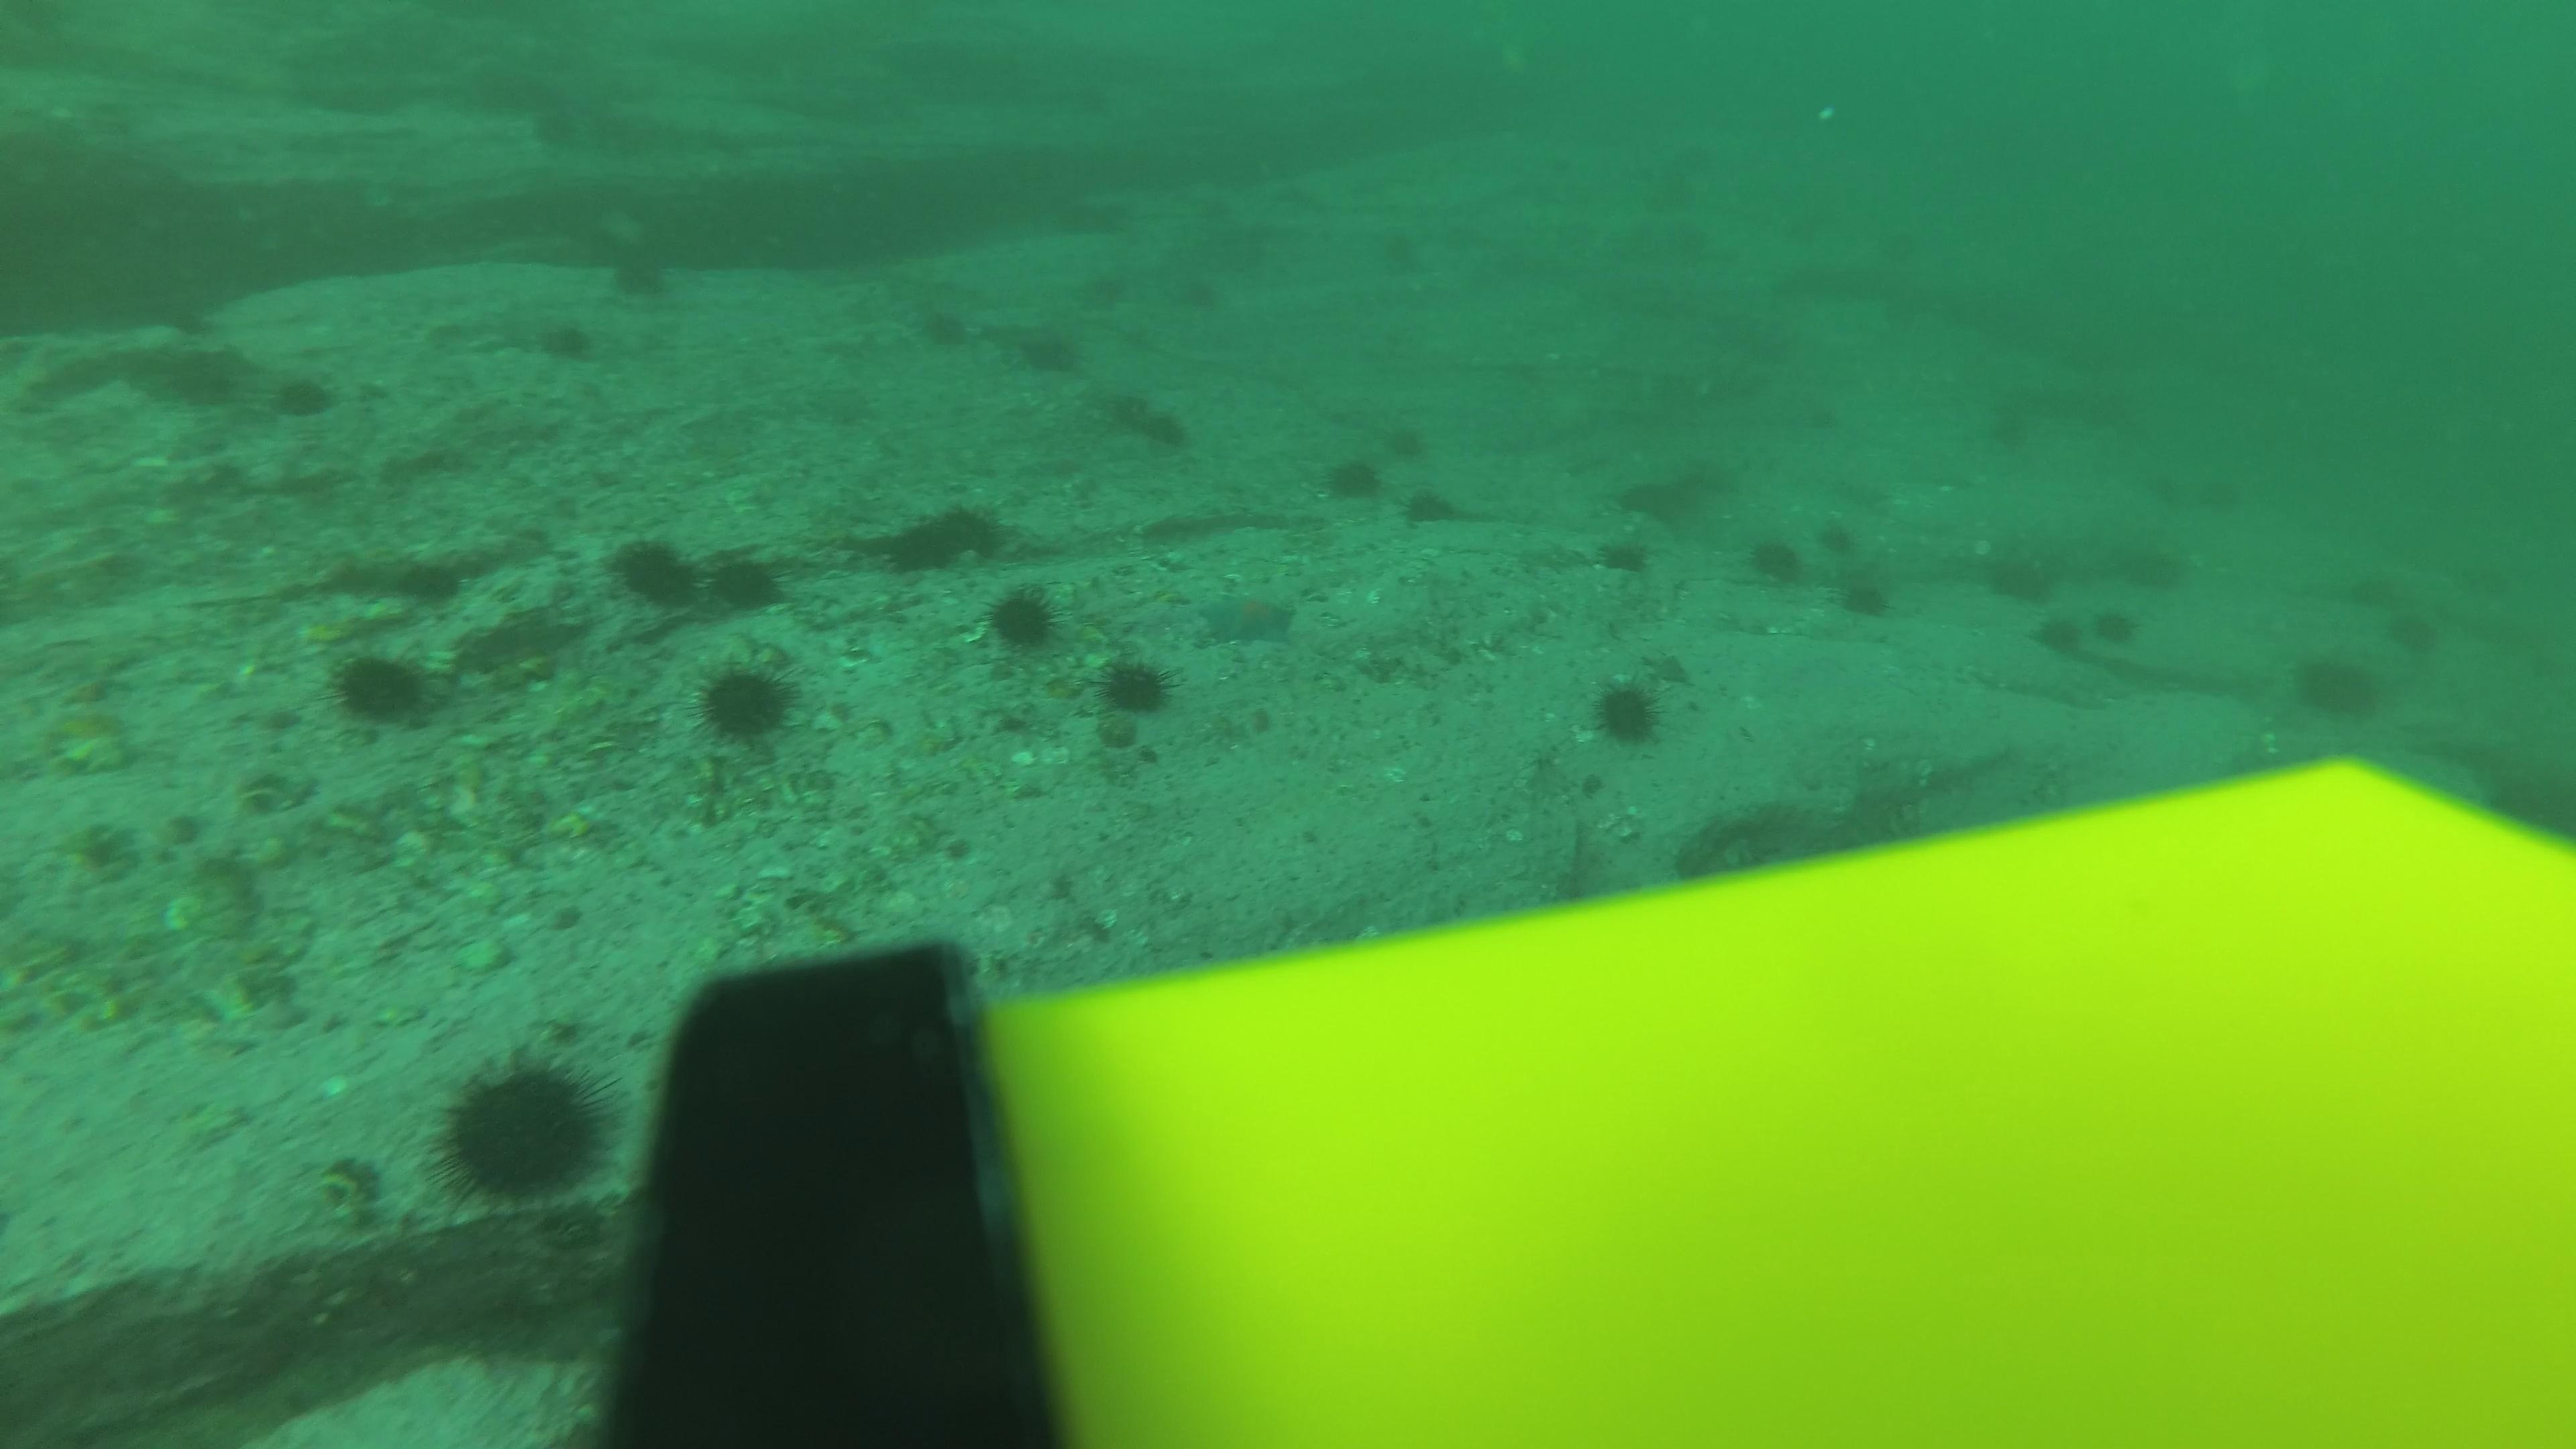echinus: (432, 1046, 614, 1207), (320, 639, 448, 736), (688, 653, 805, 750), (2288, 644, 2387, 725), (692, 541, 791, 623), (1088, 649, 1180, 736), (975, 579, 1069, 660), (1583, 671, 1672, 752), (157, 336, 251, 412), (1978, 533, 2061, 609), (598, 235, 681, 306), (1005, 318, 1086, 380), (619, 552, 699, 610), (602, 527, 683, 584), (267, 366, 341, 425), (934, 501, 1010, 557), (1741, 527, 1808, 591), (1829, 563, 1898, 625), (885, 520, 961, 575), (1318, 448, 1387, 508), (534, 311, 602, 368), (2029, 605, 2093, 662), (1378, 418, 1435, 479), (2084, 600, 2144, 656), (1394, 479, 1460, 531), (2199, 472, 2266, 522), (1812, 511, 1879, 561), (1796, 398, 1863, 448), (2128, 547, 2194, 596), (2378, 614, 2443, 663), (2346, 570, 2411, 619), (1966, 403, 2031, 453), (1594, 529, 1656, 580), (1136, 403, 1191, 453), (1106, 391, 1162, 439), (1169, 272, 1226, 320), (1083, 264, 1139, 311), (924, 308, 980, 356), (513, 96, 570, 143), (1380, 234, 1437, 281), (1638, 170, 1695, 218), (1053, 76, 1109, 124), (2143, 469, 2197, 508)
starfish: (1191, 582, 1304, 651), (1635, 644, 1693, 690)
